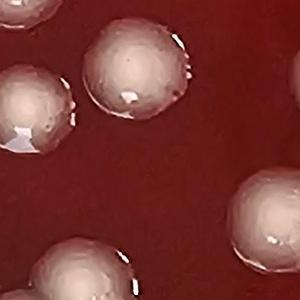colony: (79, 10, 194, 126), (221, 163, 300, 278), (25, 233, 146, 300), (0, 62, 84, 158), (0, 0, 70, 34), (284, 42, 300, 117), (0, 283, 60, 300)
